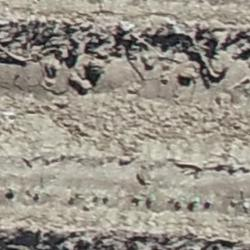cotton: (193, 196, 199, 206), (135, 196, 144, 202), (11, 189, 15, 196), (150, 194, 154, 200)
